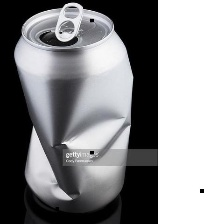can: (10, 0, 144, 218)
